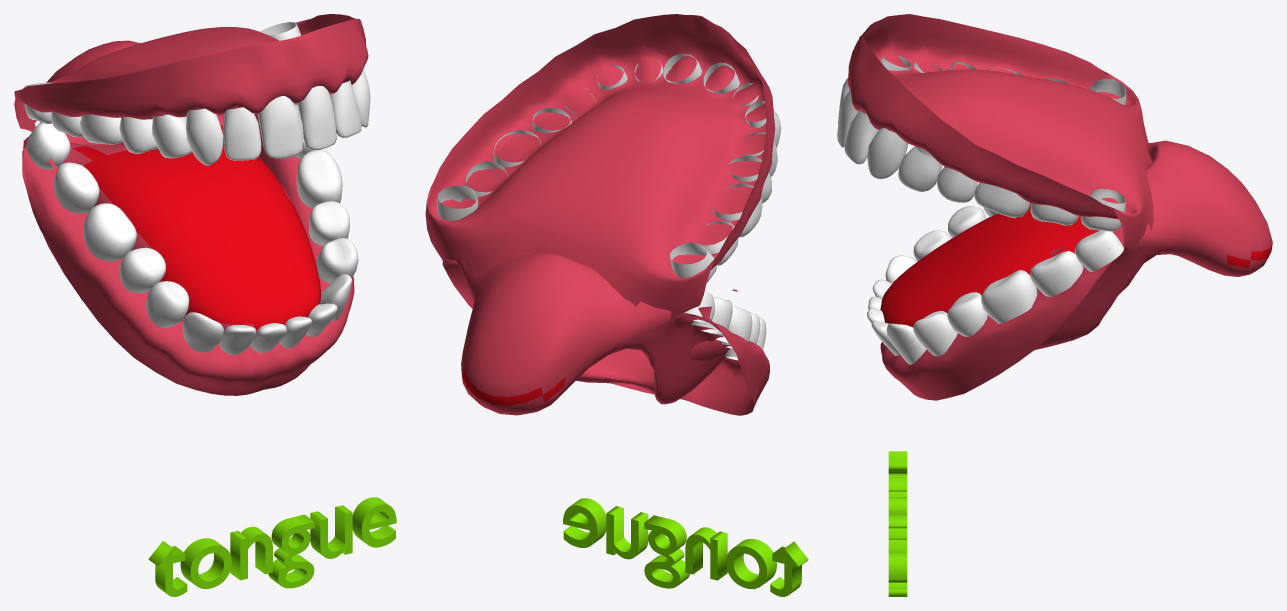
The model's file is tongue no.2.gltf.
3 renders of one model, left to right at view 1: azimuth 30°, elevation 25°; view 2: azimuth 150°, elevation 25°; view 3: azimuth 270°, elevation 25°, orthographic. The views are drawn at different scales.
Parts seen in each view (by area): view 1: Gums, Gums.001, Teeth.001, Teeth.002, Text; view 2: Gums.001, Gums, Text, Teeth.002, Teeth.001; view 3: Gums.001, Gums, Teeth.001, Teeth.002, Text.
Part boxes in pixels (x1,y1,x2,y2): Gums: (22,40,354,395); Gums.001: (14,14,368,131); Teeth.001: (25,103,358,354); Teeth.002: (24,22,370,165); Text: (148,497,396,596); Gums.001: (425,14,775,319); Gums: (442,253,769,415); Text: (563,498,808,596); Teeth.002: (436,53,781,282); Teeth.001: (684,291,766,360); Gums.001: (847,14,1153,251); Gums: (880,140,1272,400); Teeth.001: (867,206,1123,364); Teeth.002: (837,55,1126,231); Text: (888,451,907,596).
Bounding box in the file's own units: 3.39 × 6.24 × 4.63.
